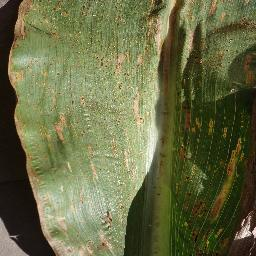Gray_Leaf_Spot: (5, 0, 255, 256)
